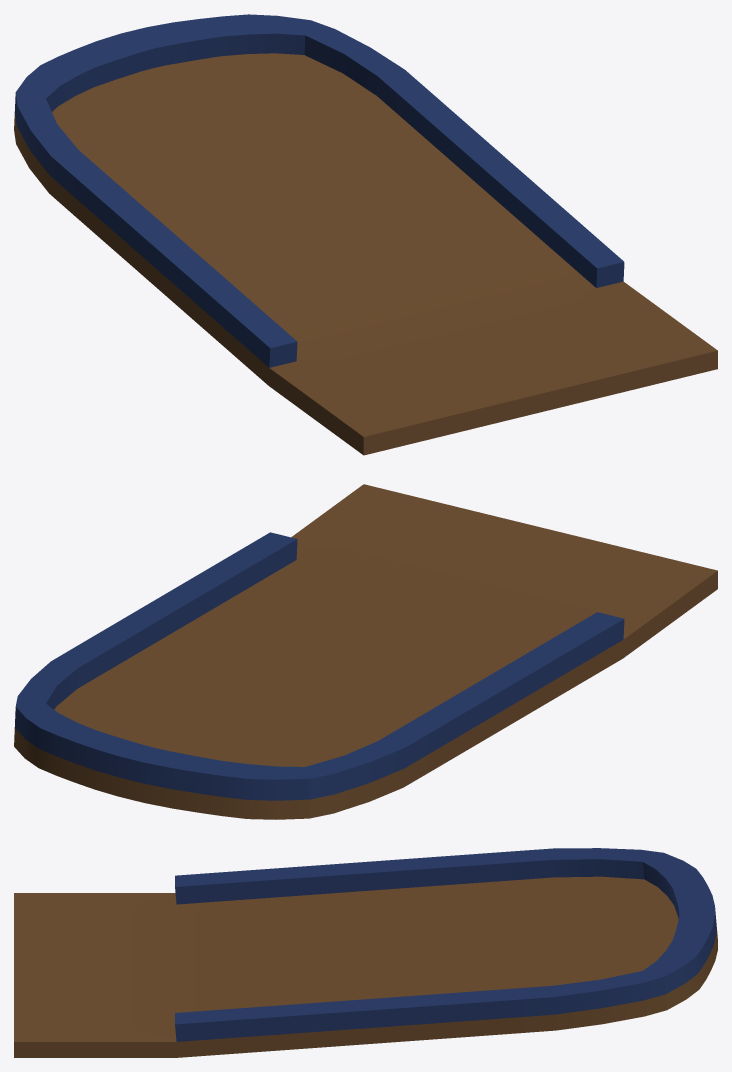
Rendered from PinballArena.fbx.
The picture shows the model from 3 angles, top to bottom: view 1: azimuth 30°, elevation 25°; view 2: azimuth 150°, elevation 25°; view 3: azimuth 270°, elevation 25°; orthographic projection. The views are drawn at different scales.
Visible parts, largest first — view 1: Pinball; view 2: Pinball; view 3: Pinball.
Boxes of the visible parts, bbox=[...] form: Pinball: bbox=[14, 14, 717, 455]; Pinball: bbox=[14, 484, 717, 819]; Pinball: bbox=[14, 848, 717, 1057].
Size of the model in its own units: 4000 by 906 by 7997.
